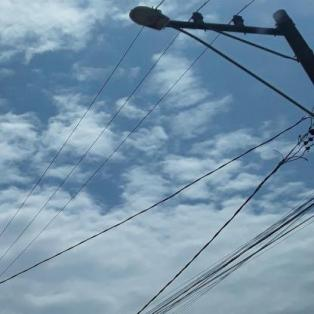Poste: (271, 4, 314, 110)
